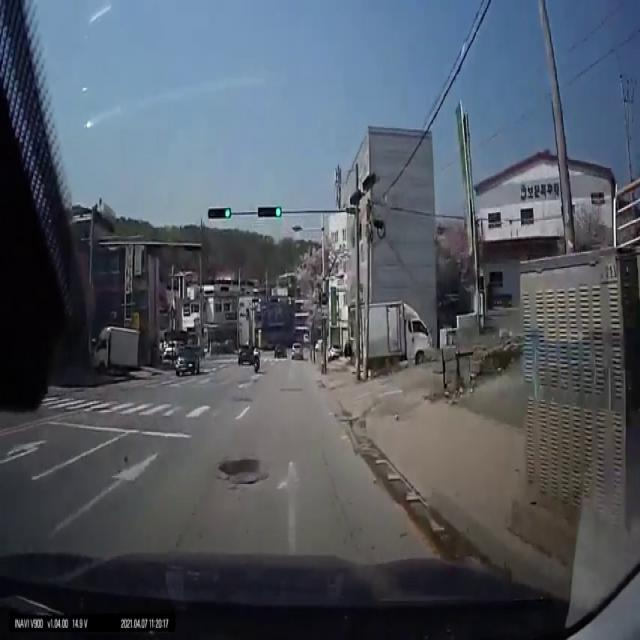Pothole: (217, 452, 263, 479)
